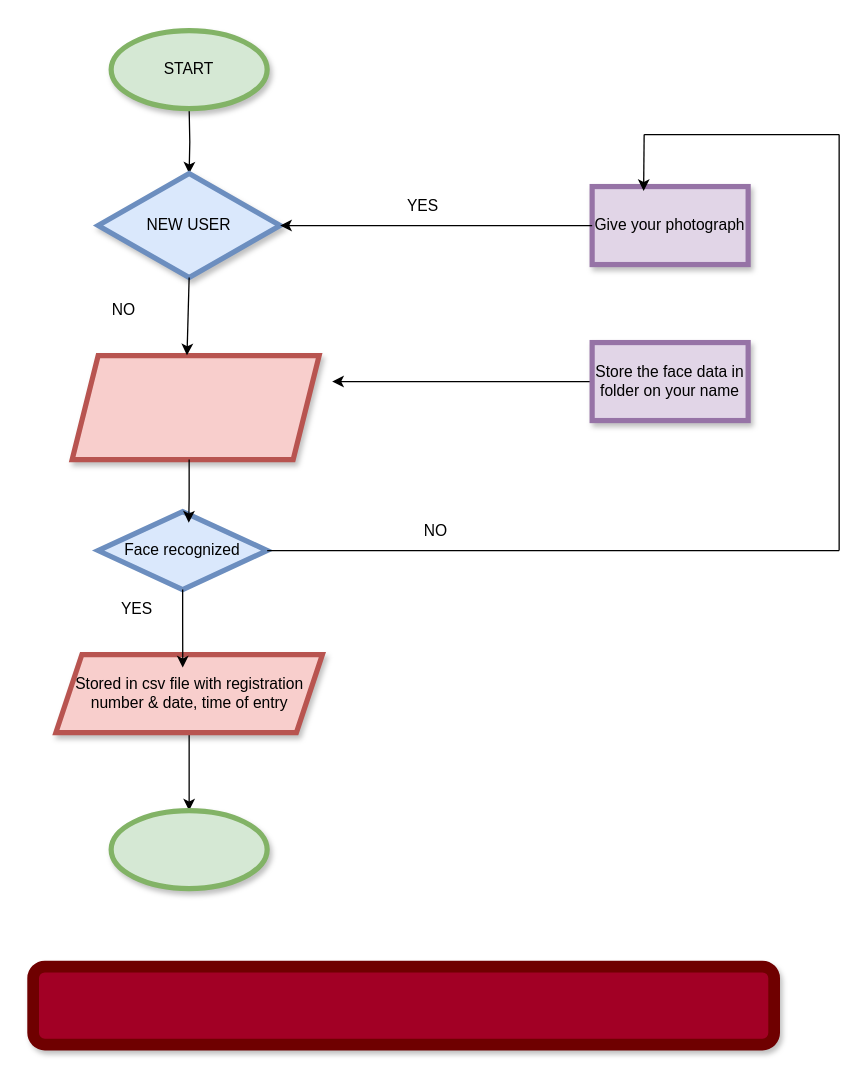
Image size: 863x1082. Some labels were removed from this diagram. The shapes that lost their labels are listed below. From the top down, each one's centre as x and y in pixels, then its label:
At (196,409): "Recognize the face".
At (190,851): "END".
At (404,1007): "FACE RECOGNITION ATTENDACE SYSYTEM".
